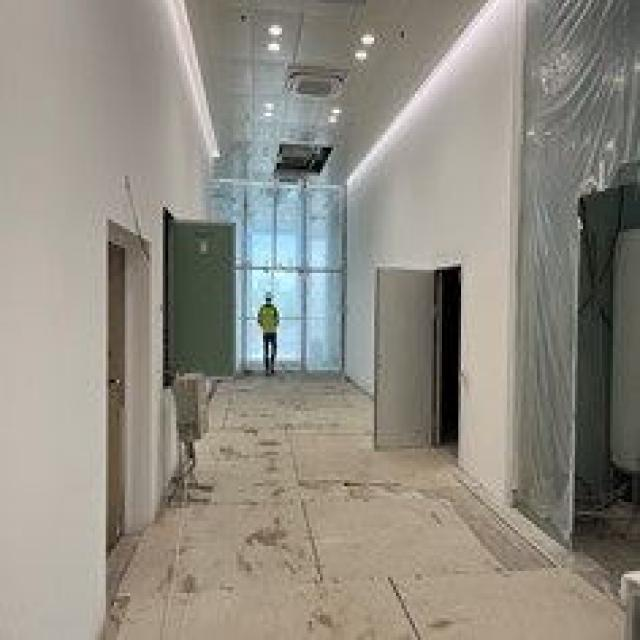Jacket: (260, 305, 279, 335)
